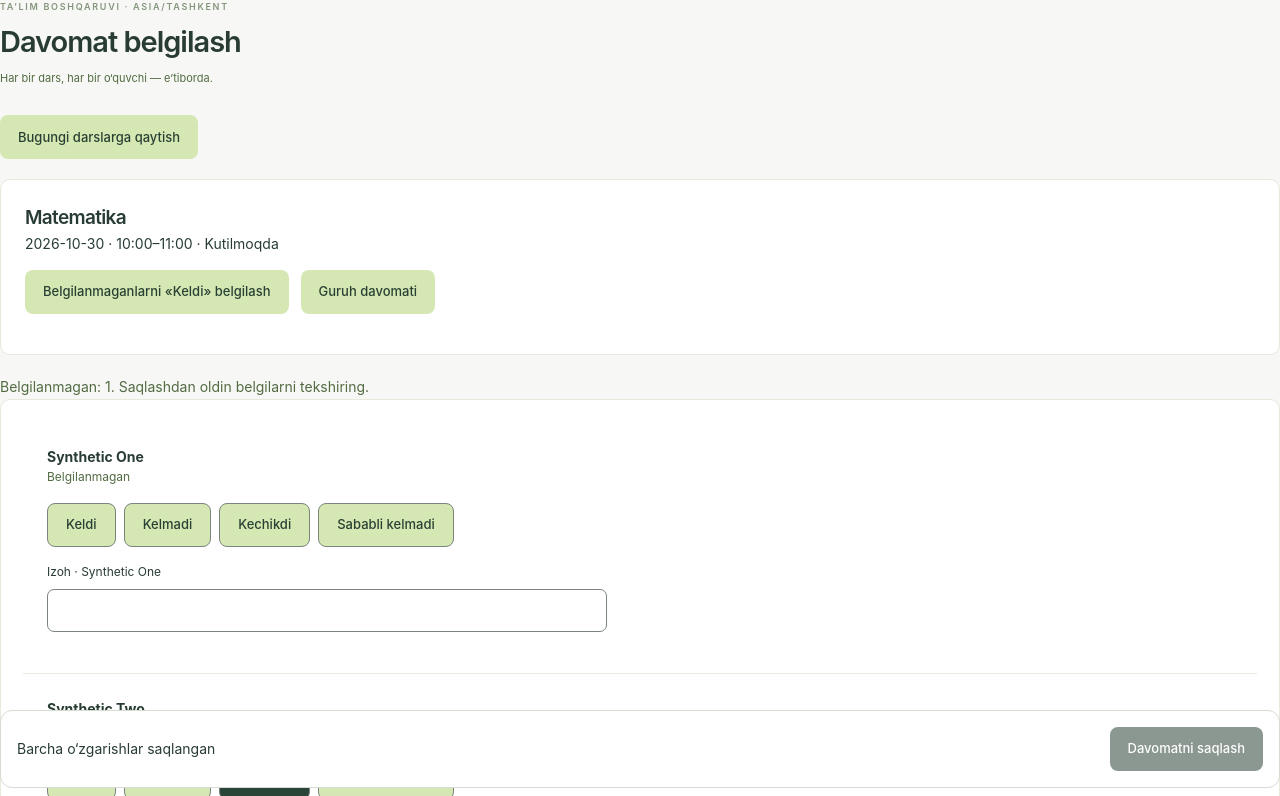
it: retains edits on conflict and exposes no teacher cancellation control
This screenshot has width=1280, height=796.
Expected: the text "Synthetic One" is shown, [47,448,144,465]
Click the button "Kelmadi".
click(168, 525)  # box [124,503,211,547]
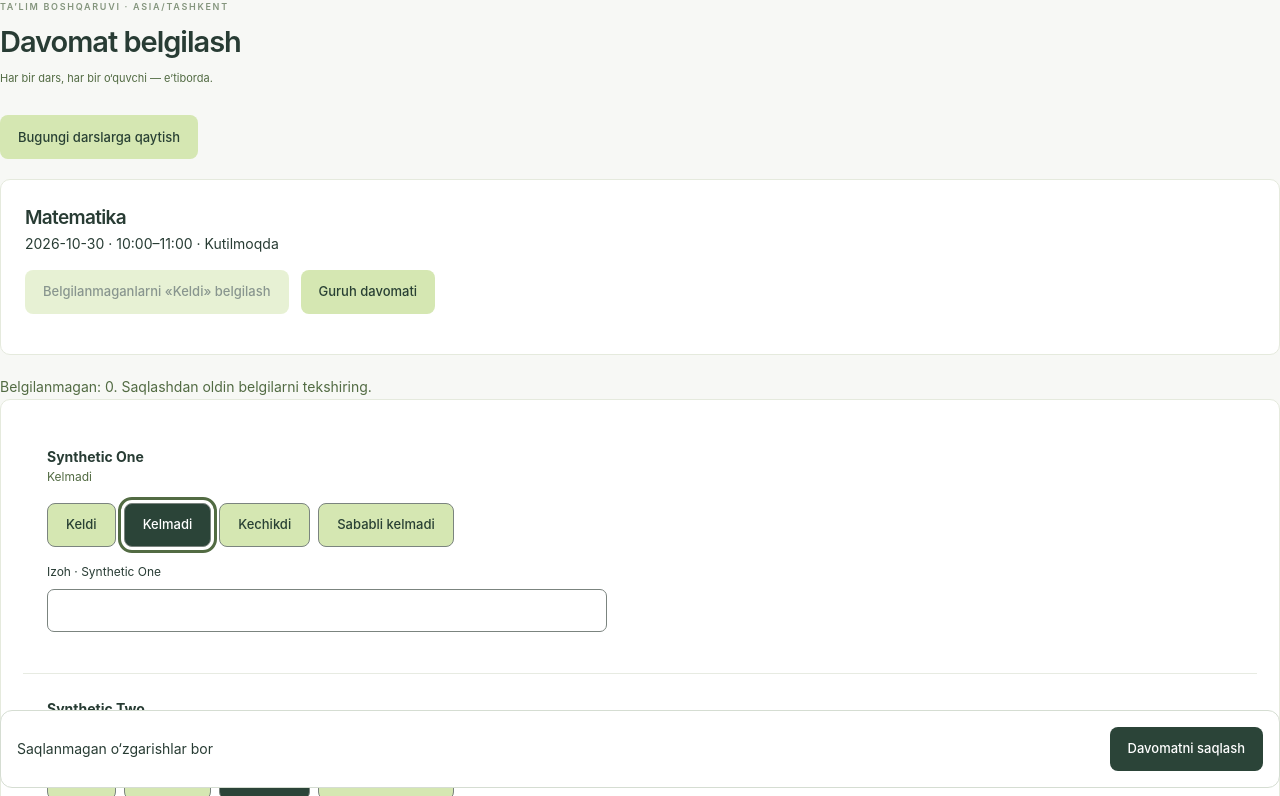
Click the button "Davomatni saqlash".
click(1186, 749)  # box [1110,727,1263,771]
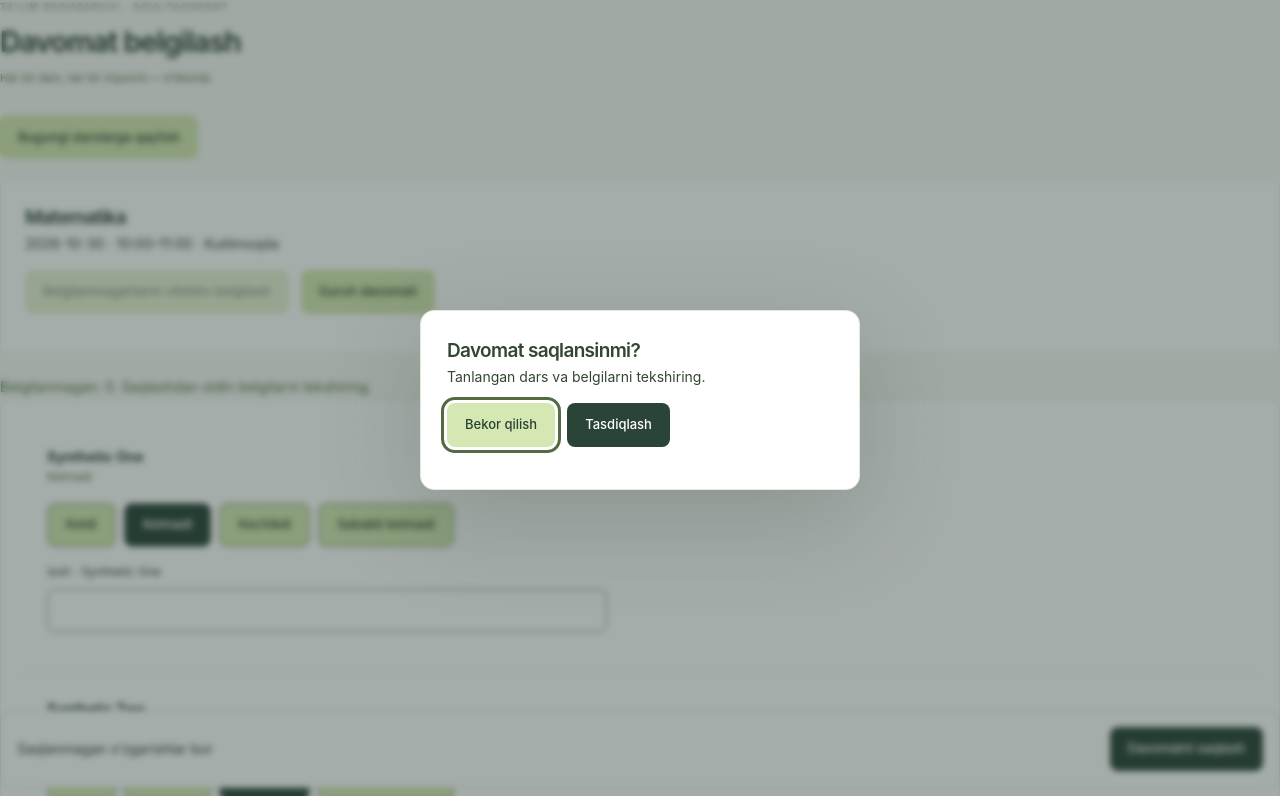
Click the button "Tasdiqlash".
click(619, 425)  # box [567,403,670,447]
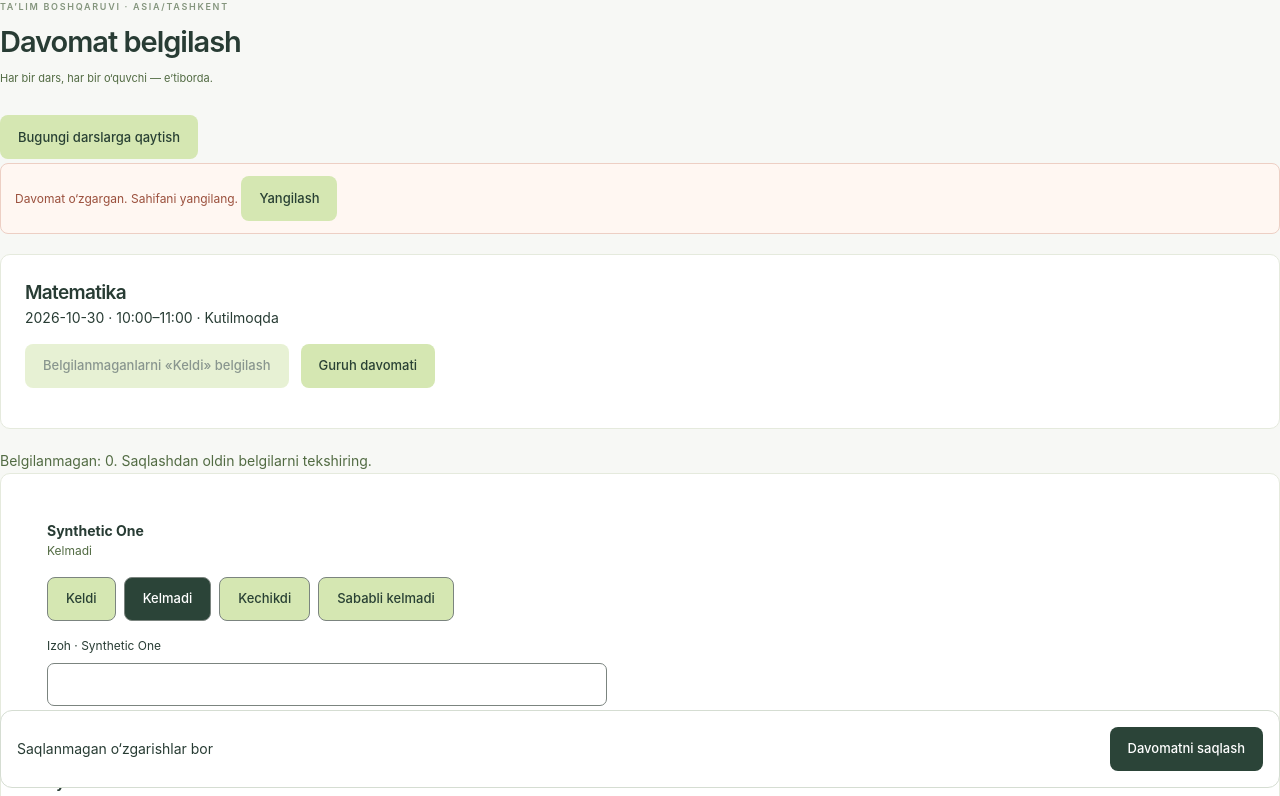
Now the message "Davomat o‘zgargan. Sahifani yangilang. Yangilash" is shown, box [0,163,1279,234]
